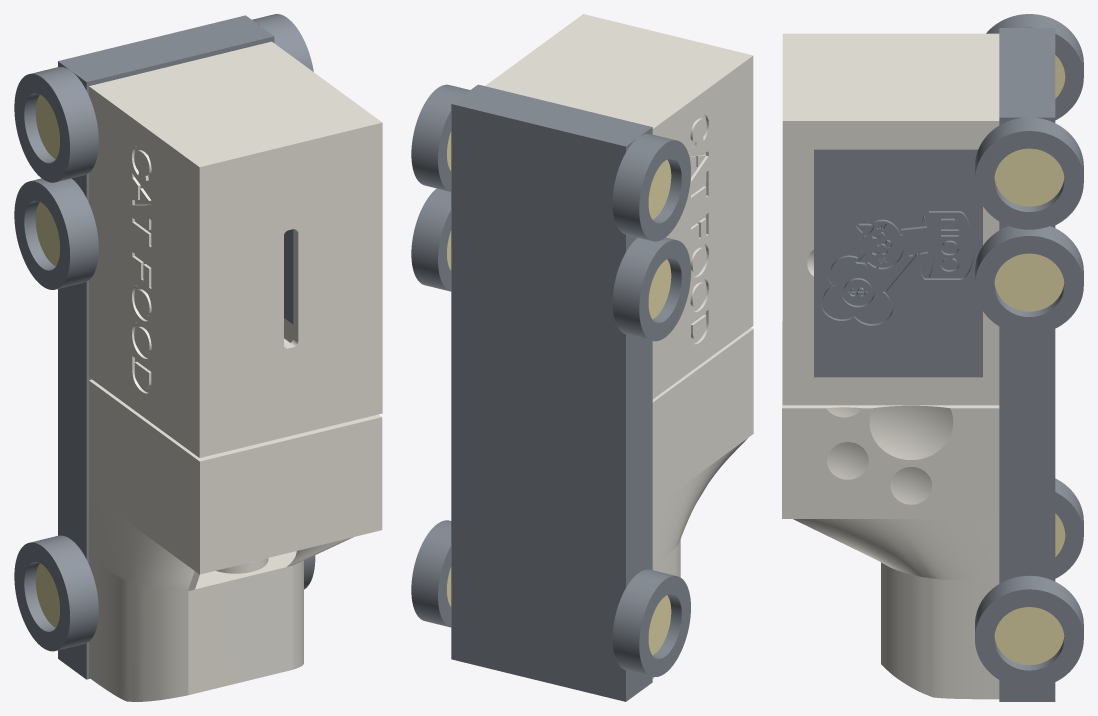
File: catcoin.gltf
3 views of the same model, side by side, from view 1: azimuth 30°, elevation 25°; view 2: azimuth 150°, elevation 25°; view 3: azimuth 270°, elevation 25° (orthographic). The views are drawn at different scales.
Bounding box in the file's own units: 76.05 × 177 × 82.84.
